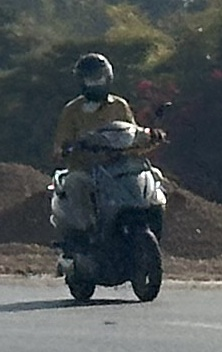BikeWithRider: (42, 49, 176, 307)
Helmet: (69, 48, 121, 101)
